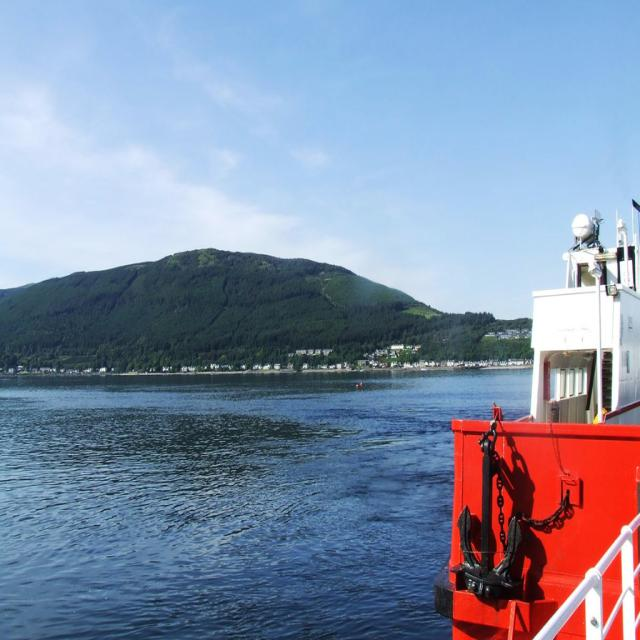Boat: (429, 196, 639, 640)
